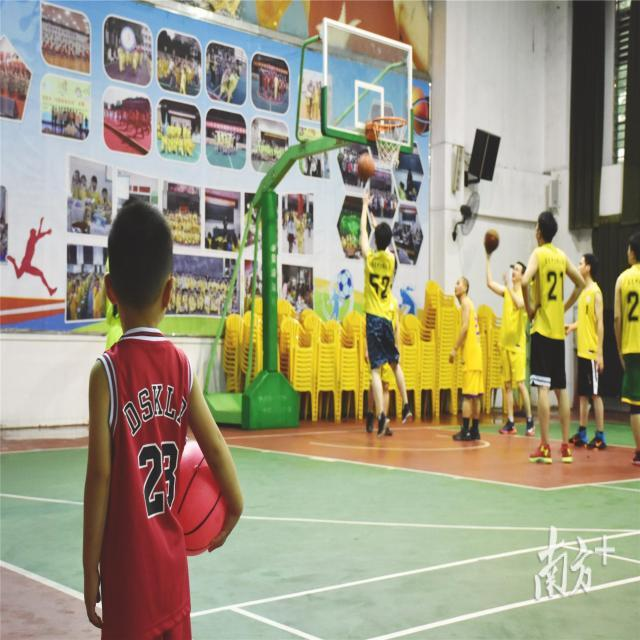rim: (176, 440, 228, 548), (356, 148, 374, 182), (484, 230, 499, 256)
